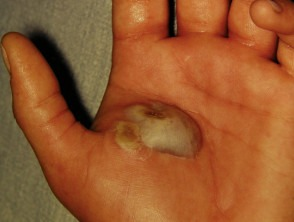Warts: (113, 79, 212, 168)
